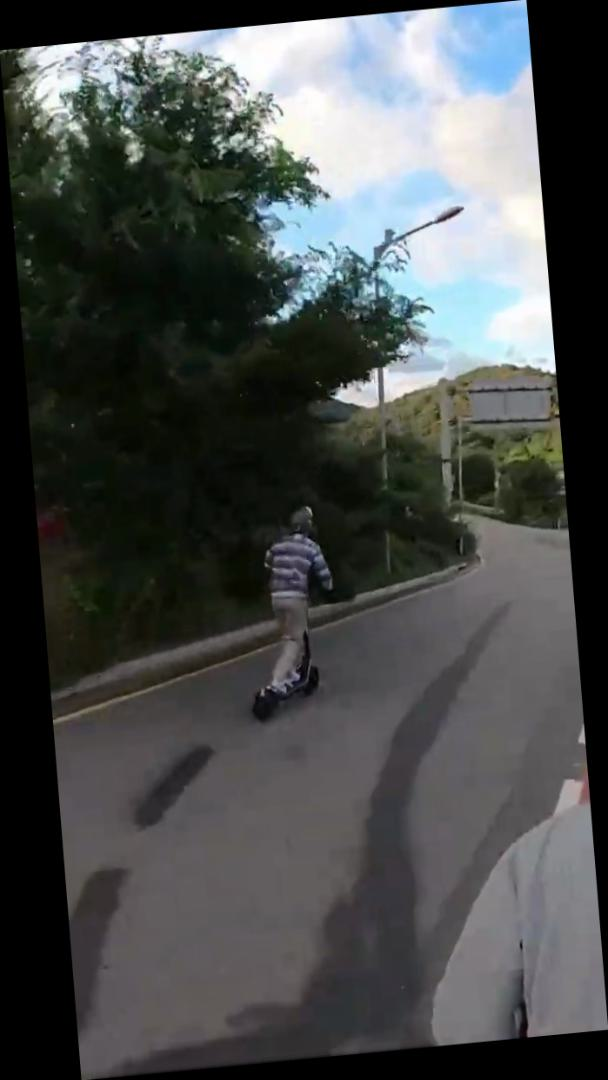helmet: (231, 499, 354, 724)
